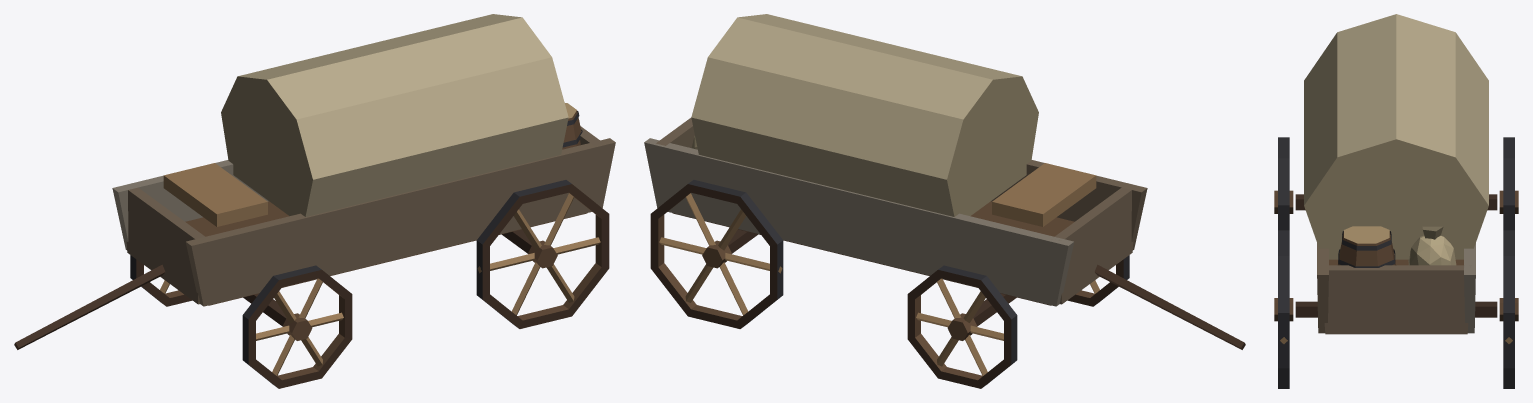
File: wagon.glb
3 views of the same model, side by side, from view 1: azimuth 30°, elevation 25°; view 2: azimuth 150°, elevation 25°; view 3: azimuth 270°, elevation 25° (orthographic).
Visible parts, largest first — view 1: wagon; view 2: wagon; view 3: wagon.
Part boxes in pixels (x1,y1,x2,y2): wagon: [14, 14, 615, 388]; wagon: [644, 14, 1245, 388]; wagon: [1274, 14, 1518, 388].
Size of the model in its own units: 5.49 by 2.38 by 2.06.
